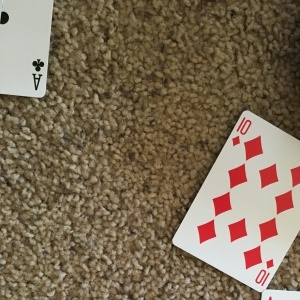card: (1, 1, 56, 98)
